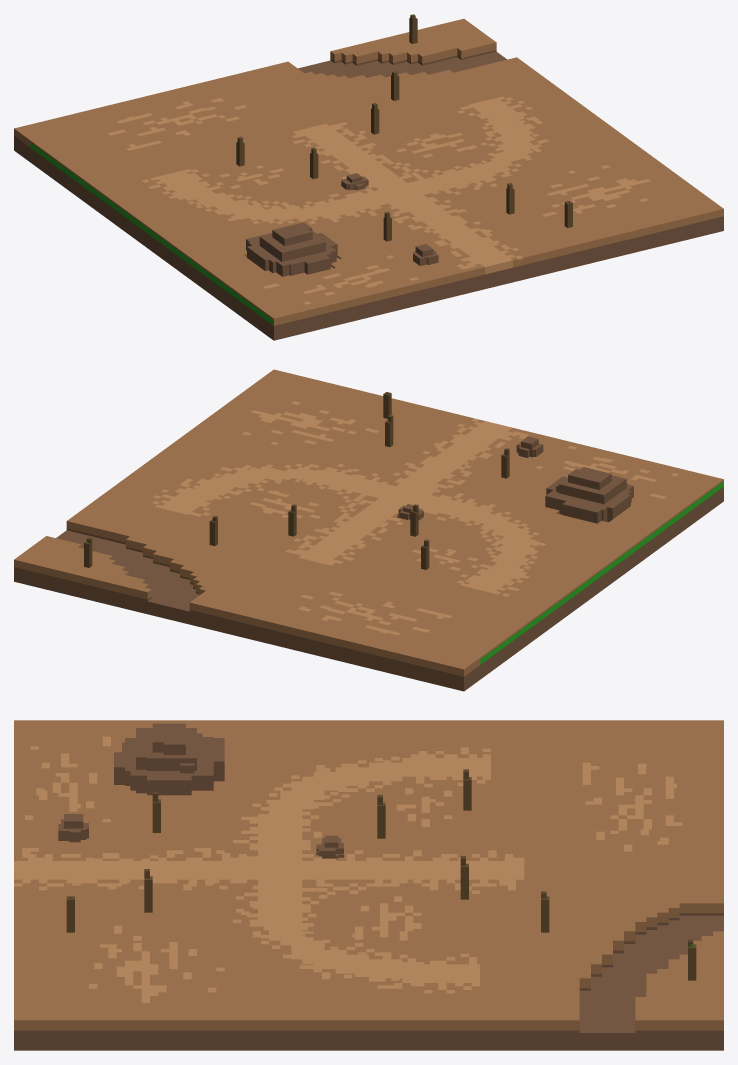
The model's file is background_gate-1.glb.
3 views of the same model, one above another, from view 1: azimuth 30°, elevation 25°; view 2: azimuth 150°, elevation 25°; view 3: azimuth 270°, elevation 25° (orthographic). The views are drawn at different scales.
Parts seen in each view (by area): view 1: Node; view 2: Node; view 3: Node.
Part boxes in pixels (x1,y1,x2,y2): Node: (14,14,723,340); Node: (14,369,723,691); Node: (14,720,723,1050).
Bounding box in the file's own units: 25.6 × 2.8 × 25.6.
Materials: 1 (1 with a texture image).
